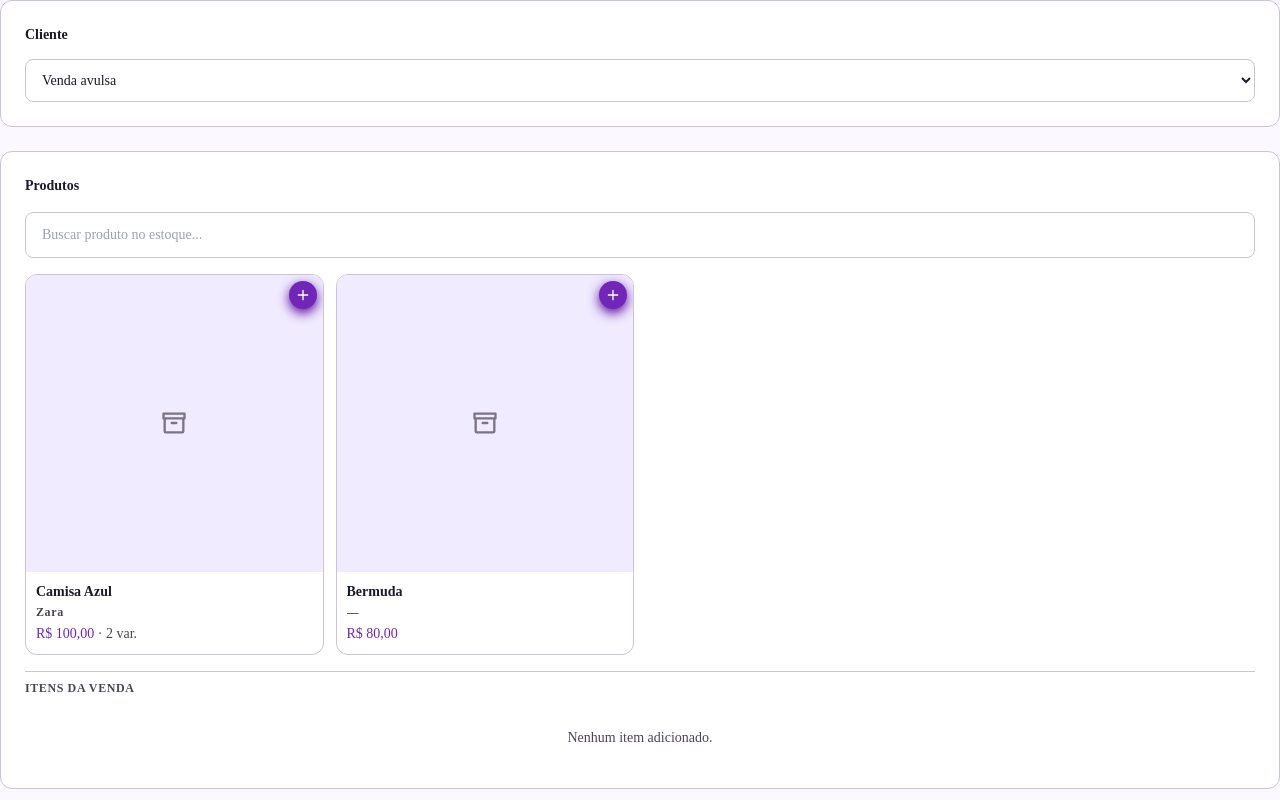
Test: NewSaleForm › adds a single-variant product straight to the cart from its card
This screenshot has width=1280, height=800.
Check: the text "Nenhum item adicionado." is shown, box [568, 730, 712, 744]
Click the button named "adicionar bermuda": (485,423) [336, 275, 633, 572]
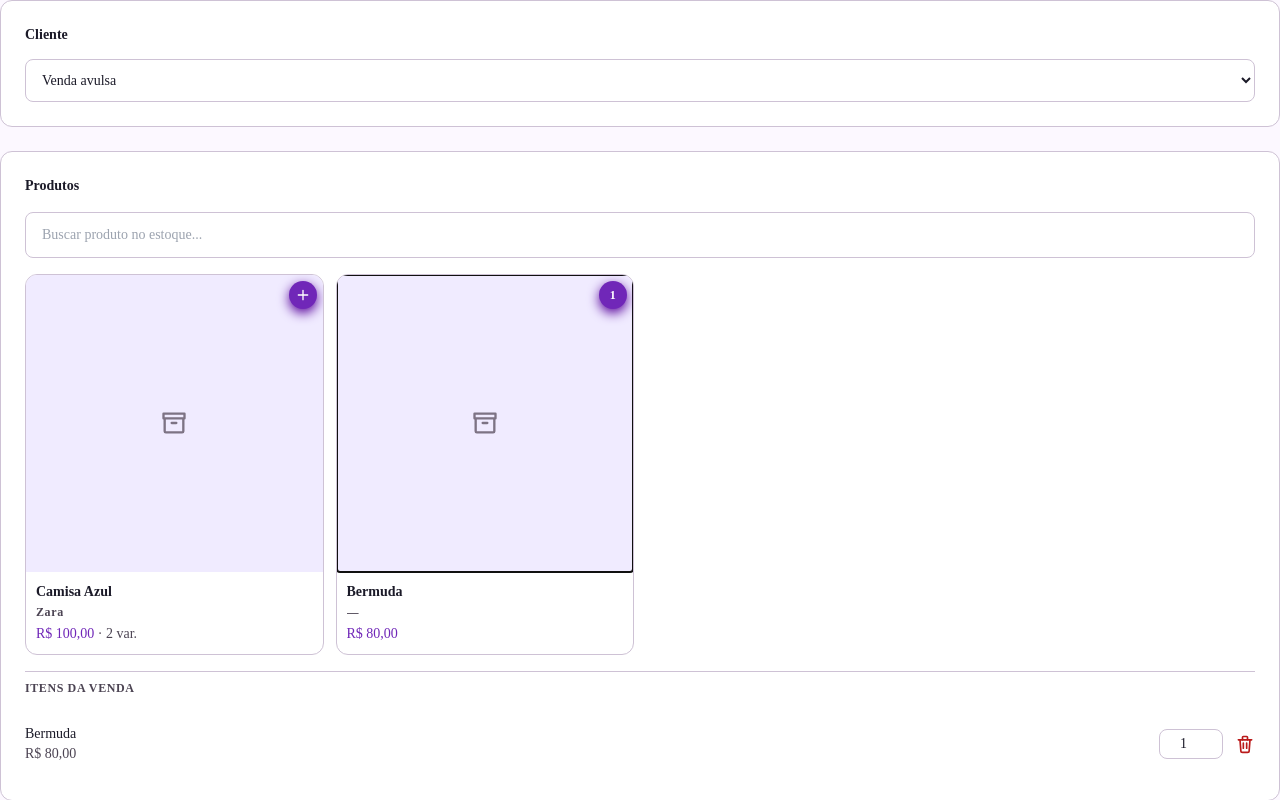
Check: the text "Nenhum item adicionado" is gone
